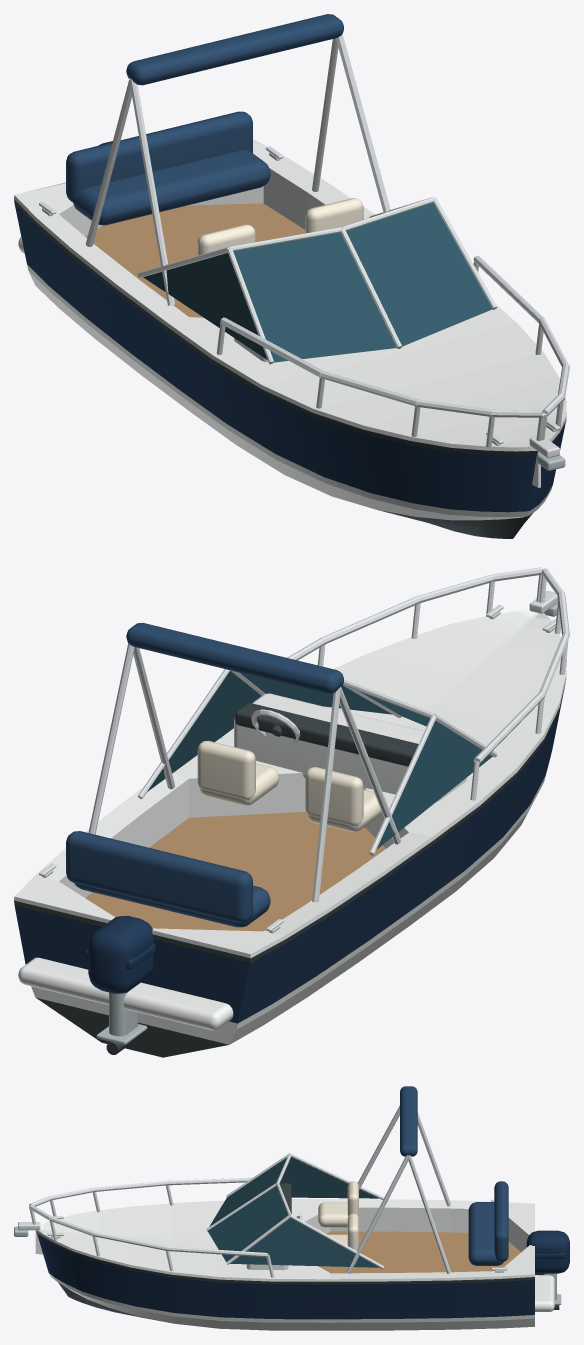
Rendered from cuddy_runabout.glb.
3 renders of one model, top to bottom at view 1: azimuth 30°, elevation 25°; view 2: azimuth 150°, elevation 25°; view 3: azimuth 270°, elevation 25°, orthographic. The views are drawn at different scales.
Visible parts, largest first — view 1: cuddy_runabout; view 2: cuddy_runabout; view 3: cuddy_runabout.
Part boxes in pixels (x1,y1,x2,y2): cuddy_runabout: (14, 14, 569, 538); cuddy_runabout: (14, 567, 569, 1057); cuddy_runabout: (14, 1086, 569, 1330).
Size of the model in its own units: 2.38 by 2.75 by 6.95.
